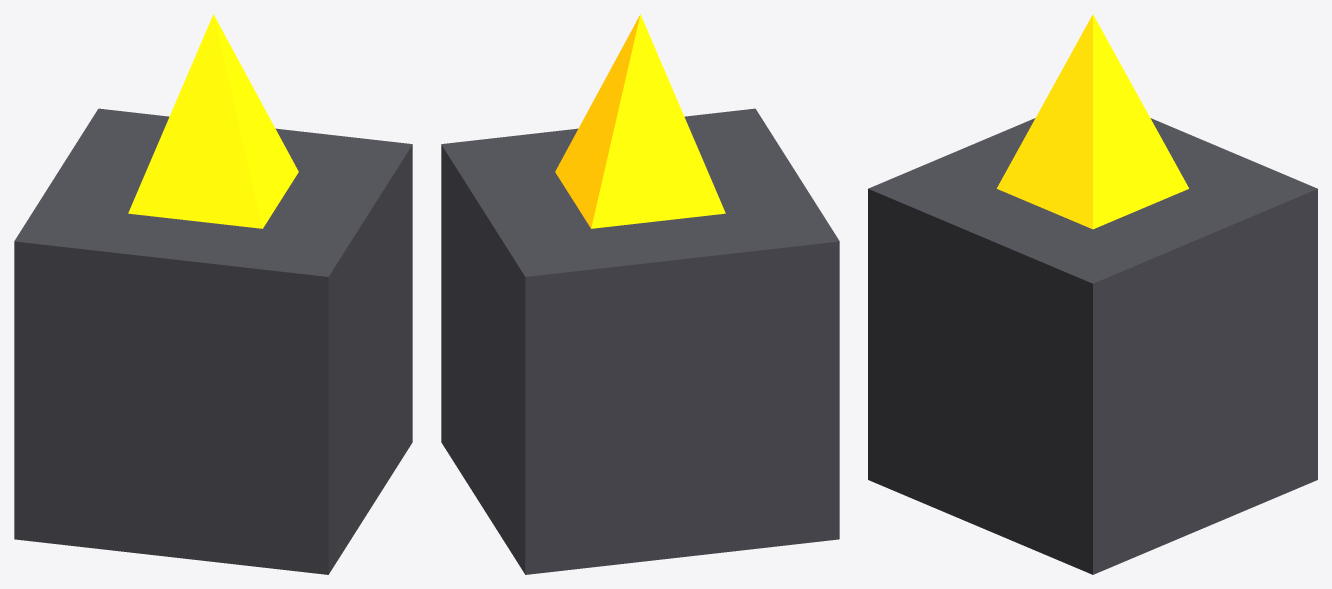
The model's file is tower_flame_lod2.glb.
3 renders of one model, left to right at view 1: azimuth 30°, elevation 25°; view 2: azimuth 150°, elevation 25°; view 3: azimuth 270°, elevation 25°, orthographic. The views are drawn at different scales.
Visible parts, largest first — view 1: tower_flame_lod2; view 2: tower_flame_lod2; view 3: tower_flame_lod2.
Boxes of the visible parts, box(x1,y1,x2,y2) form: tower_flame_lod2: box(14, 14, 412, 574); tower_flame_lod2: box(441, 14, 839, 574); tower_flame_lod2: box(868, 14, 1317, 574).
Bounding box in the file's own units: 0.7 × 0.8 × 0.7.
